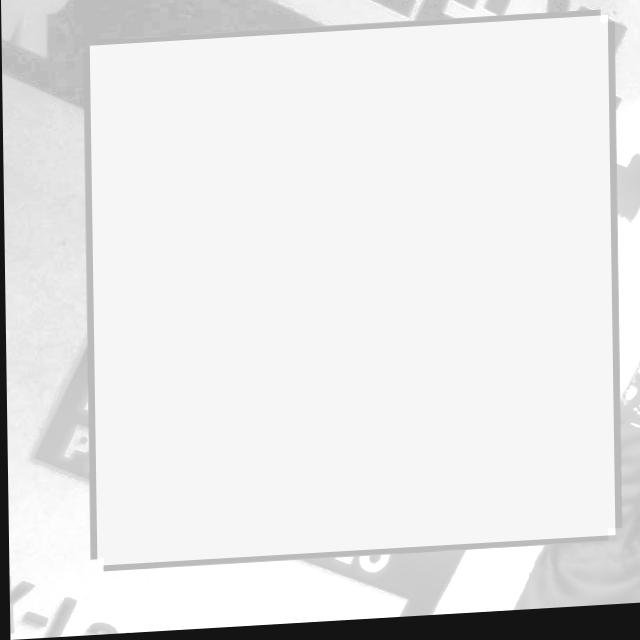qr_code: (89, 23, 613, 567)
